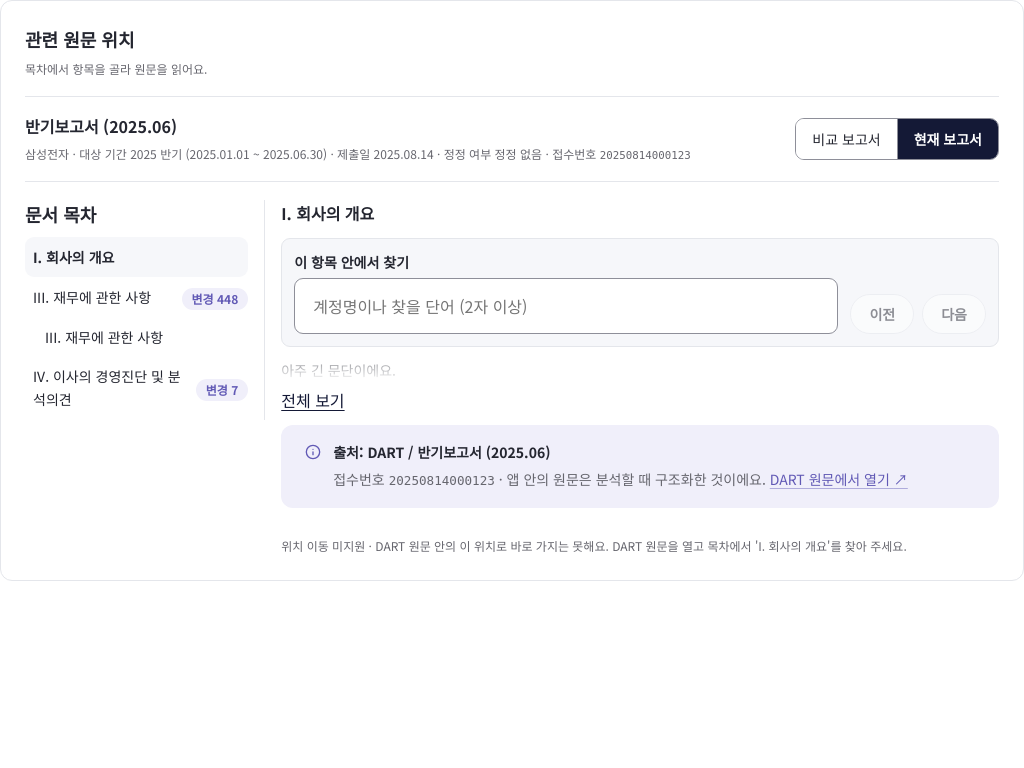
Test: 원문 확인 긴 항목(#396) › 아주 높은 블록은 접어 두고 전체 보기로 펼친다
Step 1. Click the button "전체 보기" → x=313, y=400, box [281,387,345,413]
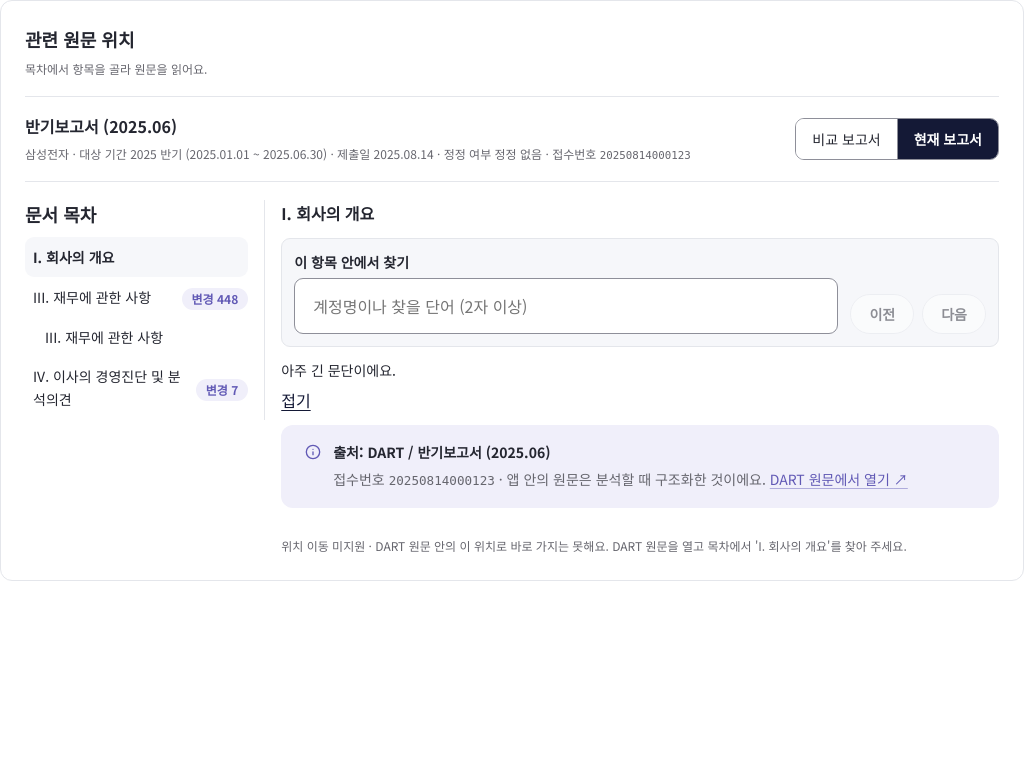
Check: the button named "전체 보기" is expanded, box [281,387,311,413]
